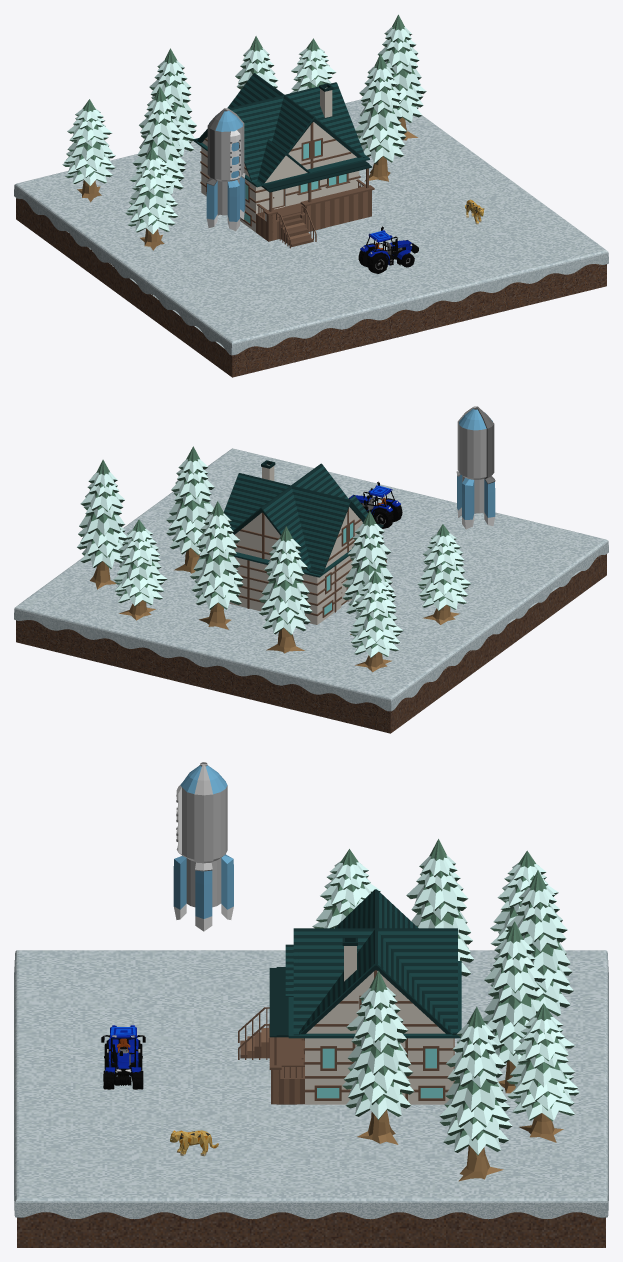
3 views of the same model, one above another, from view 1: azimuth 30°, elevation 25°; view 2: azimuth 150°, elevation 25°; view 3: azimuth 270°, elevation 25° (orthographic). The views are drawn at different scales.
Parts seen in each view (by area): view 1: Cube.003, Cube.793, OBJRANDOM_ROCKETSHIP, VEHICLES_TRACTOR; view 2: Cube.003, Cube.793, OBJRANDOM_ROCKETSHIP, VEHICLES_TRACTOR; view 3: Cube.003, Cube.793, OBJRANDOM_ROCKETSHIP, VEHICLES_TRACTOR, ANIMAL_JAGUAR.
Part boxes in pixels (bbox=[...]): Cube.003: bbox=[14, 14, 608, 377]; Cube.793: bbox=[193, 73, 374, 248]; OBJRANDOM_ROCKETSHIP: bbox=[206, 108, 245, 231]; VEHICLES_TRACTOR: bbox=[358, 226, 418, 273]; Cube.003: bbox=[14, 446, 608, 733]; Cube.793: bbox=[224, 460, 386, 624]; OBJRANDOM_ROCKETSHIP: bbox=[456, 406, 495, 529]; VEHICLES_TRACTOR: bbox=[348, 481, 402, 528]; Cube.003: bbox=[14, 839, 608, 1247]; Cube.793: bbox=[238, 889, 461, 1104]; OBJRANDOM_ROCKETSHIP: bbox=[173, 762, 233, 931]; VEHICLES_TRACTOR: bbox=[101, 1025, 145, 1089]; ANIMAL_JAGUAR: bbox=[170, 1130, 218, 1156].
Bounding box in the file's own units: 4040 × 2151 × 4040.
Materials: 33 (4 with a texture image).
